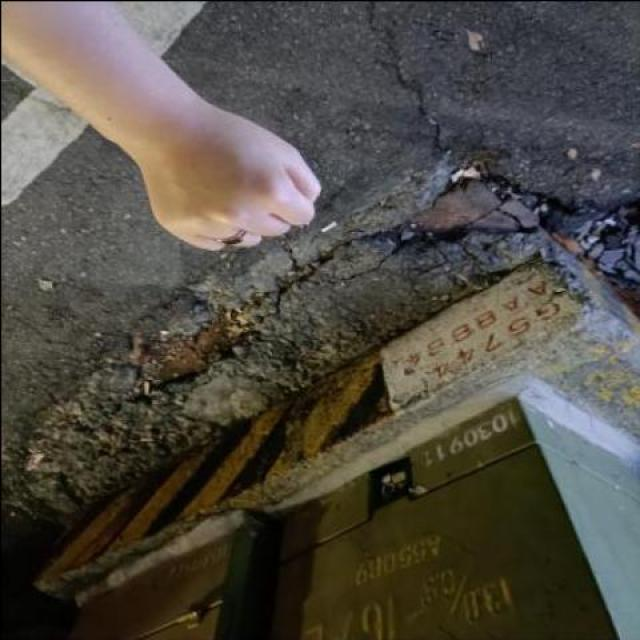Closed Hand: (136, 91, 336, 277)
